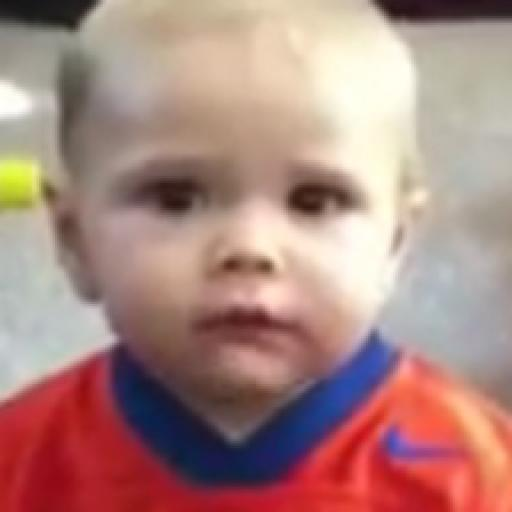Autism: (23, 20, 512, 447)
